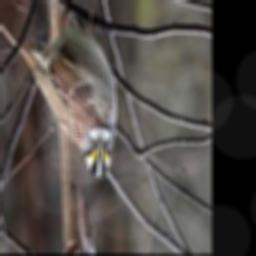Sparrow: (0, 5, 117, 177)
